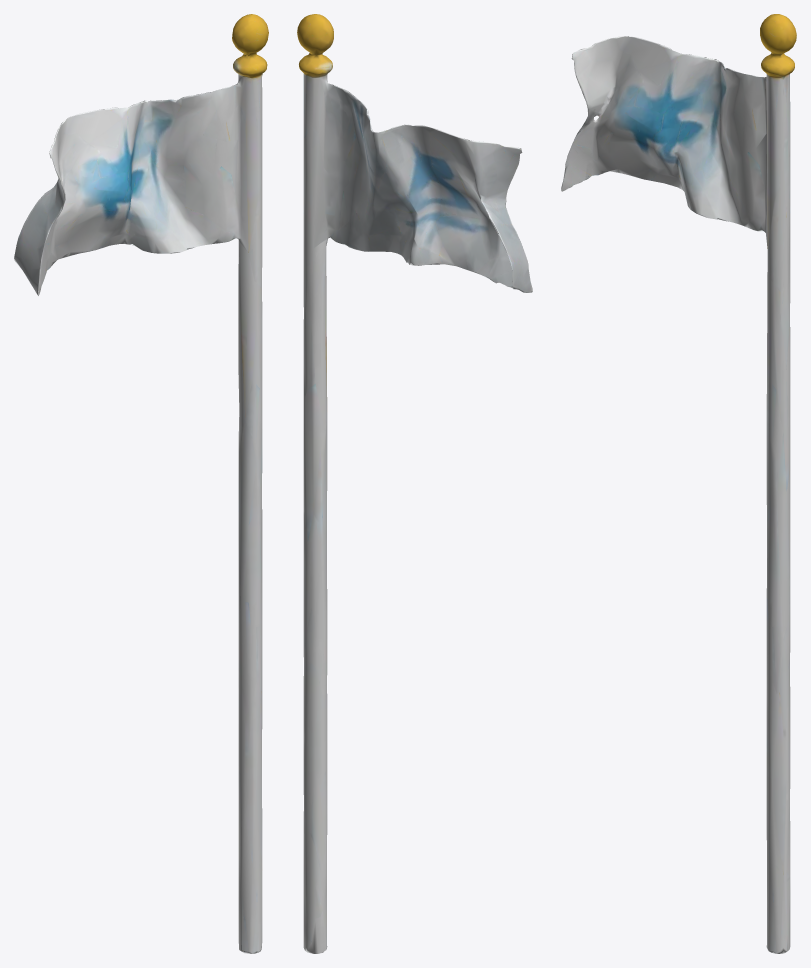
The model's file is flag.glb.
The picture shows the model from 3 angles, left to right: view 1: azimuth 30°, elevation 25°; view 2: azimuth 150°, elevation 25°; view 3: azimuth 330°, elevation 25°; orthographic projection.
Bounding box in the file's own units: 0.4967 × 1.9 × 0.113.
Materials: 1 (1 with a texture image).
